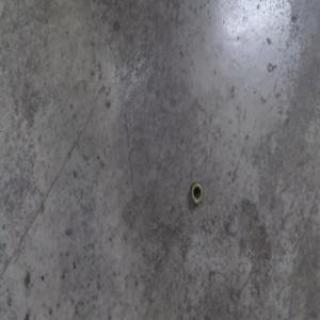Nuttrack_idkeyframe: (190, 180, 202, 205)
